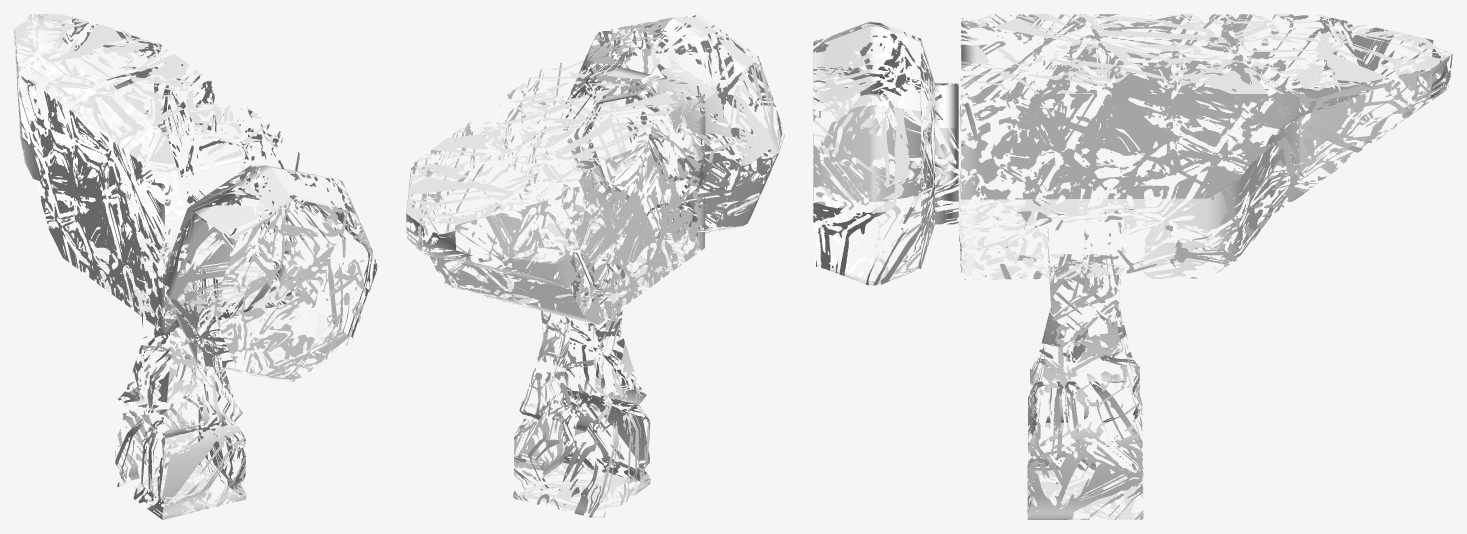
Rendered from GlassHammerMesh.fbx.
3 views of the same model, side by side, from view 1: azimuth 30°, elevation 25°; view 2: azimuth 150°, elevation 25°; view 3: azimuth 270°, elevation 25° (orthographic). The views are drawn at different scales.
Parts seen in each view (by area): view 1: GlassHammerMesh; view 2: GlassHammerMesh; view 3: GlassHammerMesh.
Part boxes in pixels (bbox=[...]): GlassHammerMesh: bbox=[14, 14, 377, 519]; GlassHammerMesh: bbox=[406, 15, 784, 517]; GlassHammerMesh: bbox=[813, 14, 1452, 519].
Size of the model in its own units: 2.59 by 4.78 by 5.9.
Materials: 1 (1 with a texture image).
